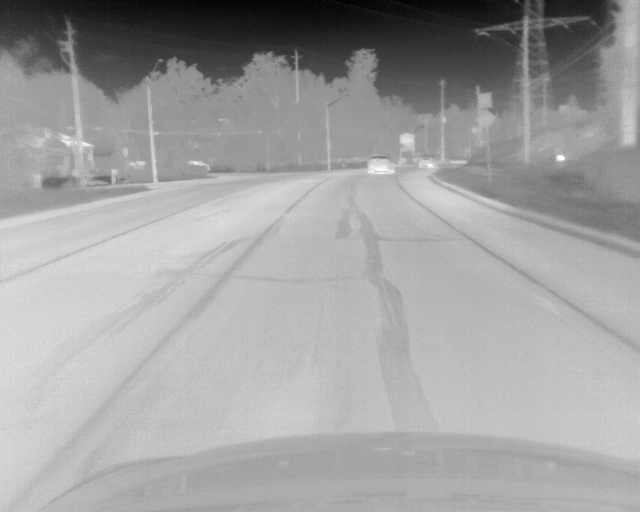car: (367, 155, 395, 176), (185, 160, 212, 176), (416, 156, 436, 170)
